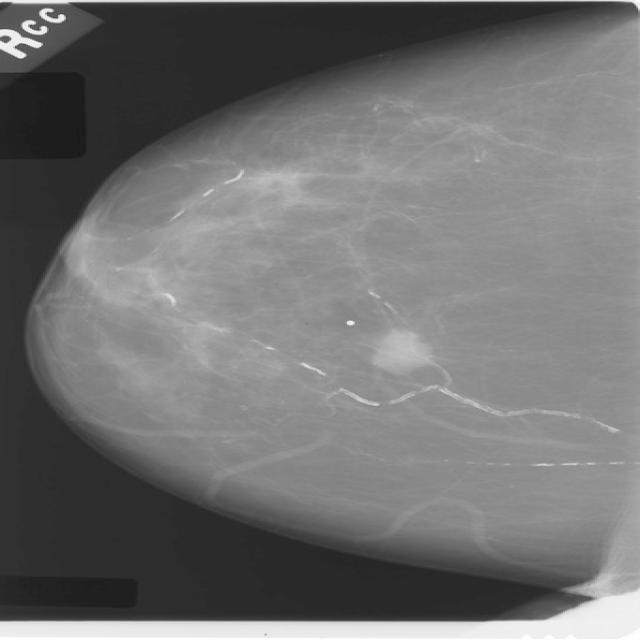tumour: (368, 328, 430, 373)
